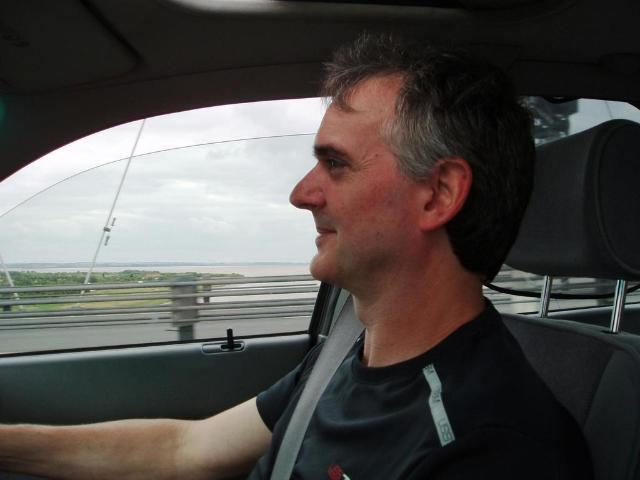Seatbelt: (272, 291, 368, 479)
